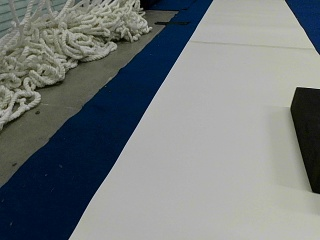block: (291, 87, 319, 194)
